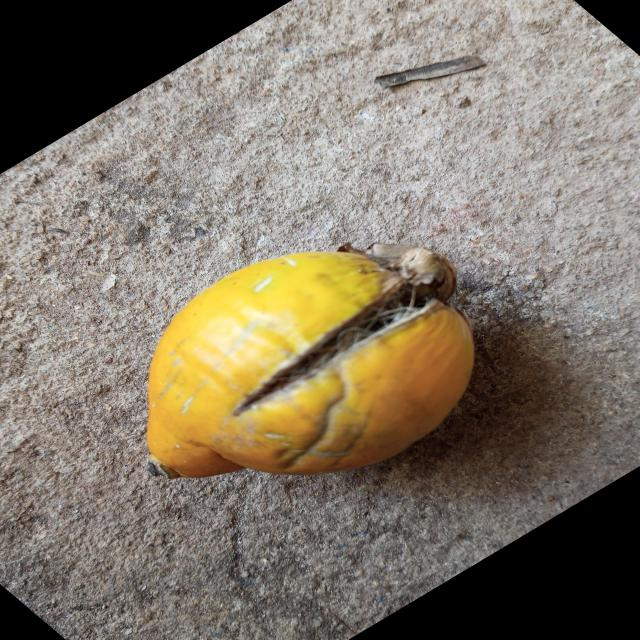damaged: (146, 249, 471, 479)
